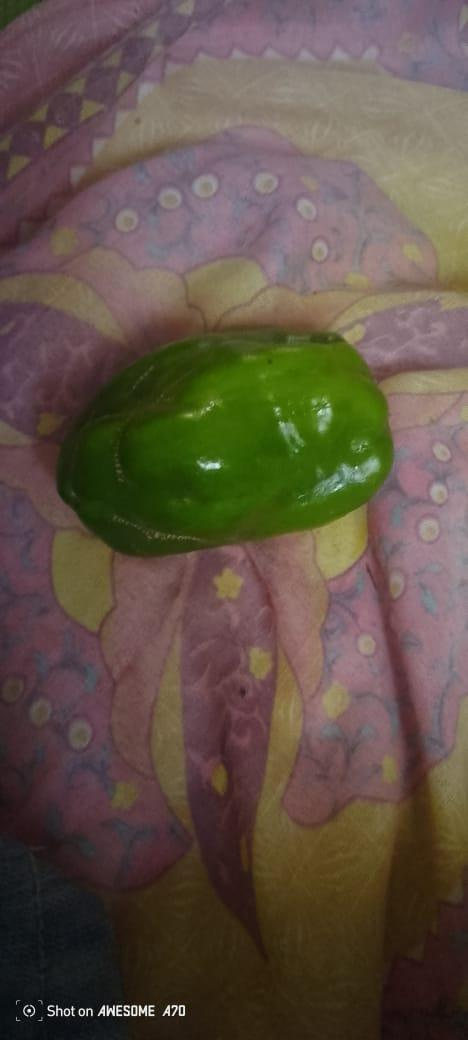non-mango: (60, 324, 387, 549)
